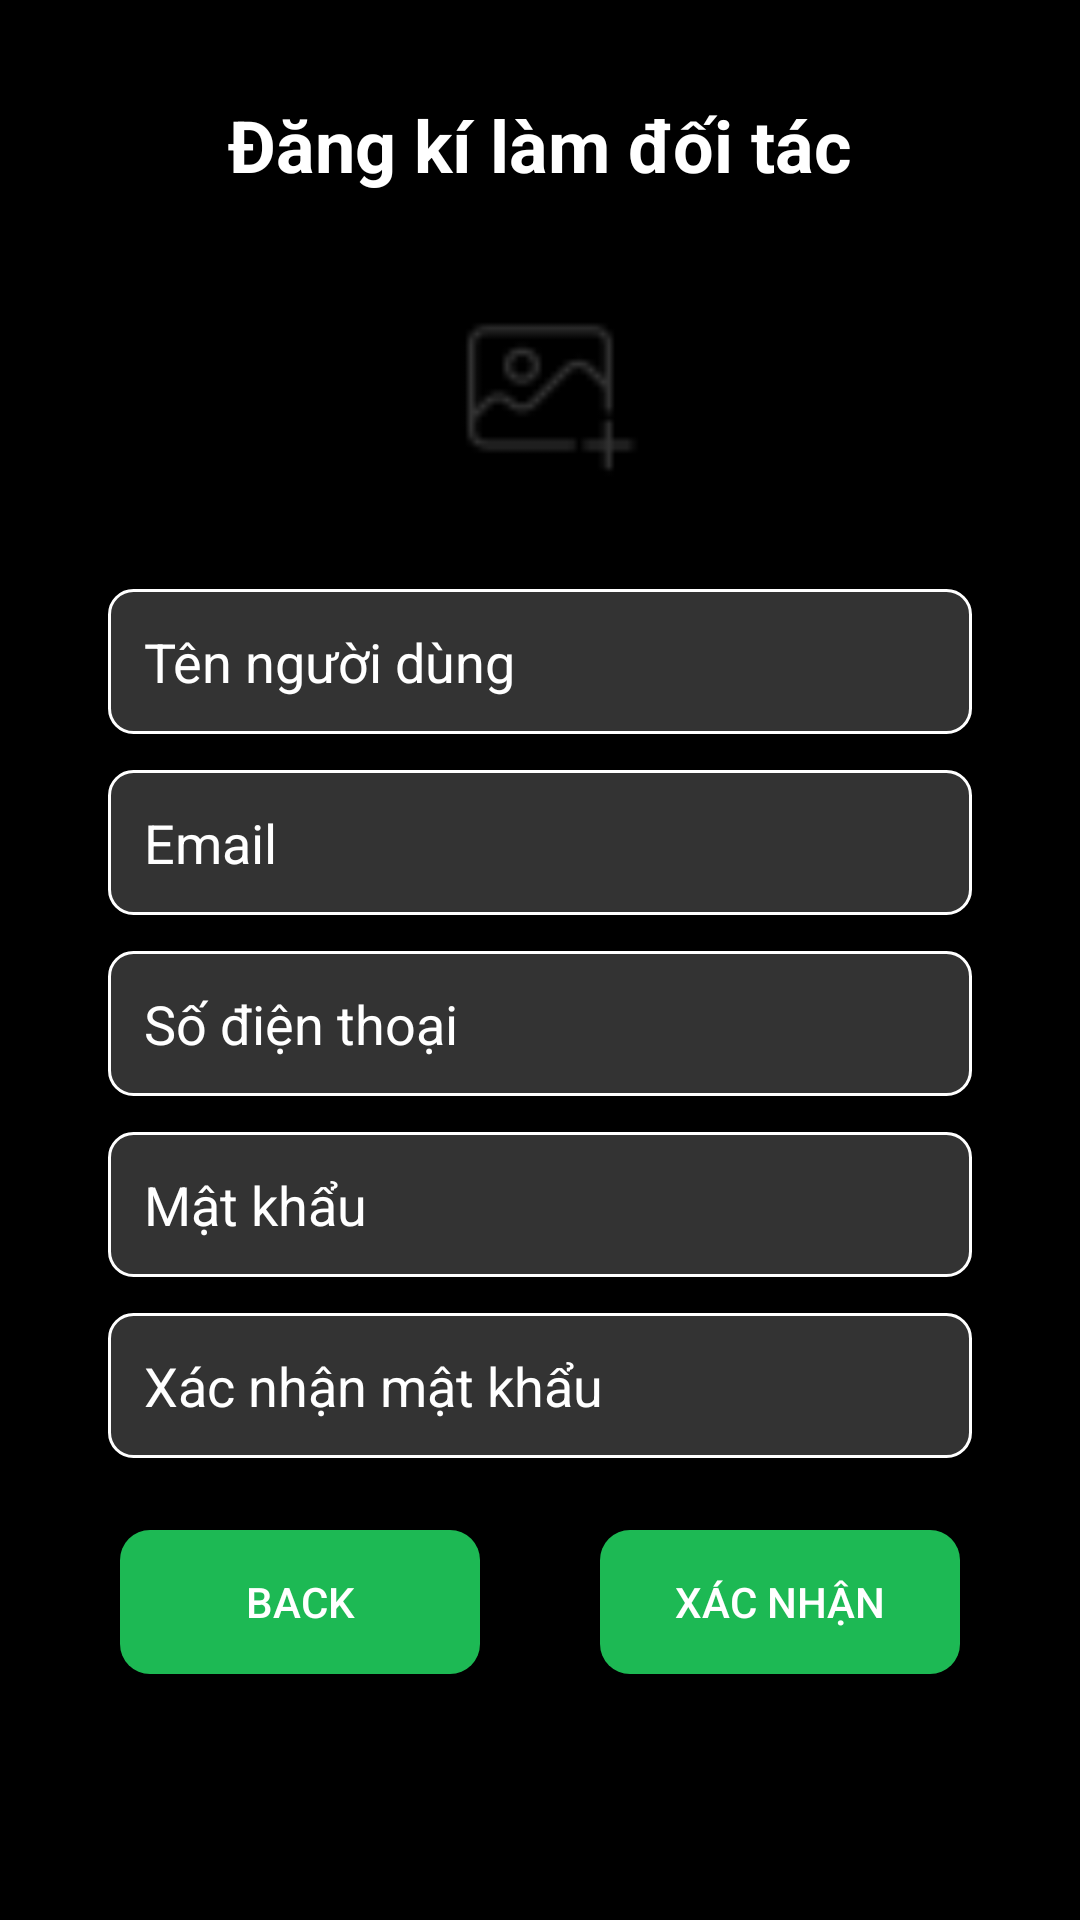

Icon click points for this 1080px x 1920px phone screenshot, format (x=x, y=y):
add picture: (x=548, y=397)
